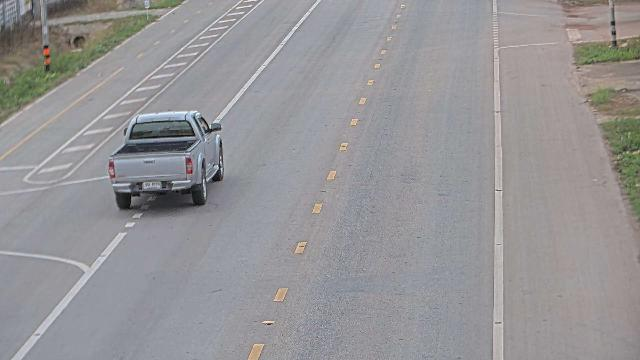pickup-truck: (107, 109, 224, 209)
